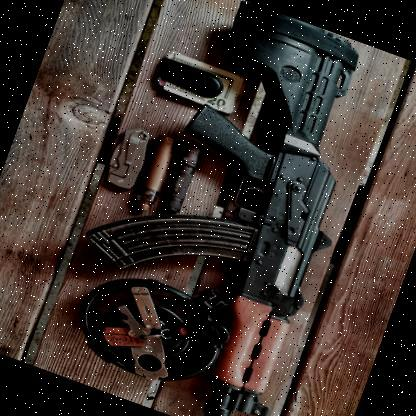rifle: (25, 0, 415, 416)
